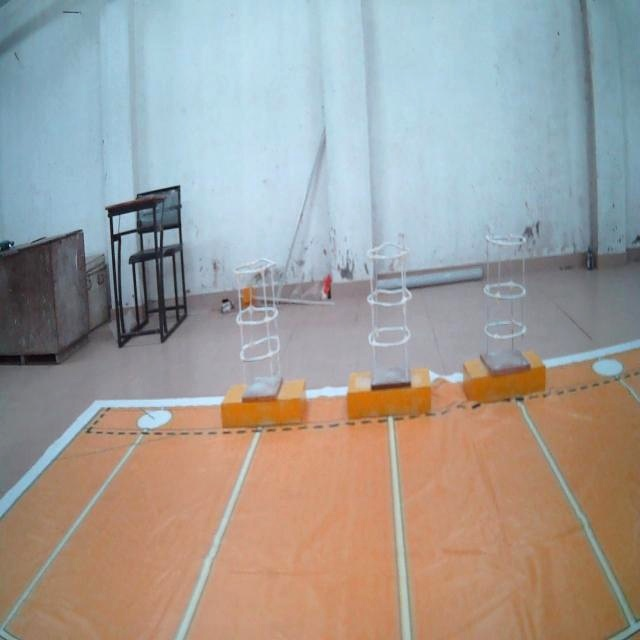silo: (366, 236, 414, 387), (484, 229, 532, 376), (238, 262, 284, 398)
